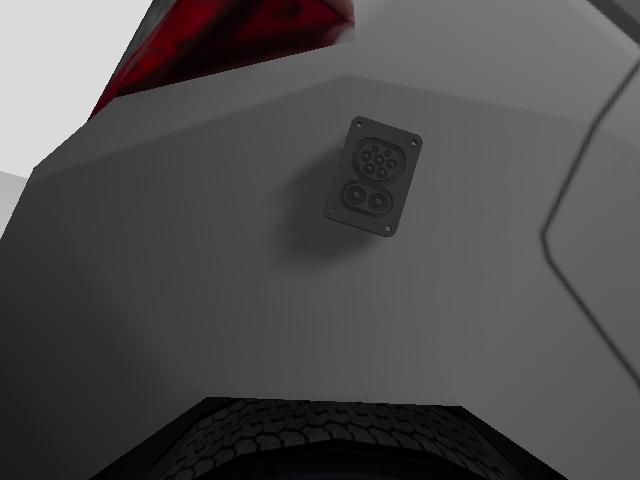EV-socket: (326, 116, 421, 235)
